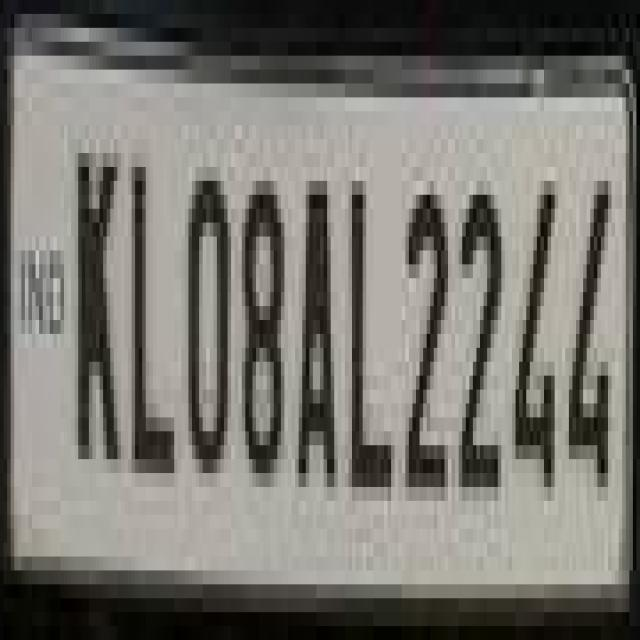license_plate: (0, 42, 612, 626)
